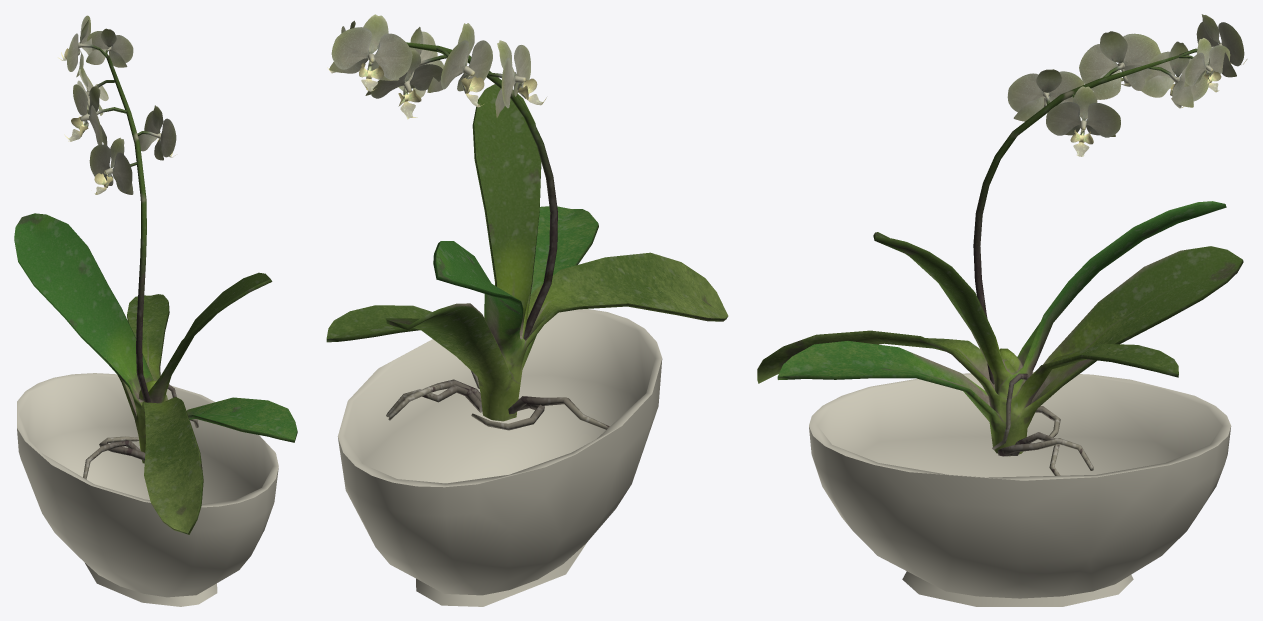
The model's file is Room2-MothOrchid.glb.
3 renders of one model, left to right at view 1: azimuth 30°, elevation 25°; view 2: azimuth 150°, elevation 25°; view 3: azimuth 270°, elevation 25°, orthographic. The views are drawn at different scales.
Parts seen in each view (by area): view 1: single, single2; view 2: single, single2; view 3: single, single2.
Part boxes in pixels (box(x1,y1,x2,y2)): single: box(17, 373, 278, 606); single2: box(14, 15, 297, 534); single: box(337, 309, 662, 606); single2: box(326, 14, 728, 430); single: box(809, 371, 1231, 606); single2: box(757, 14, 1247, 475).
Size of the model in its own units: 1.64 by 3.98 by 3.07.
2 materials, 1 textured.
